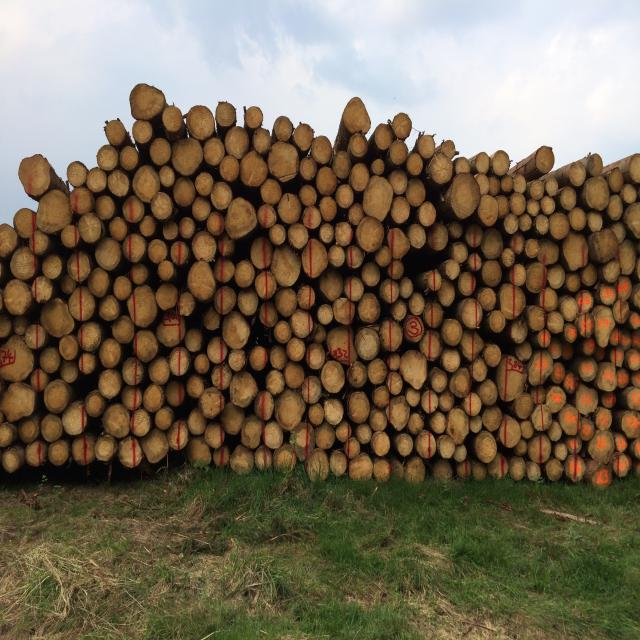wood-log: (0, 334, 34, 382), (447, 173, 482, 218), (36, 190, 72, 233), (363, 174, 395, 219), (40, 296, 74, 338), (19, 155, 52, 198), (2, 381, 37, 421), (226, 198, 259, 240), (498, 357, 528, 402), (271, 245, 303, 287), (129, 84, 164, 121), (268, 142, 300, 182), (128, 284, 158, 326), (428, 141, 455, 186), (188, 261, 219, 300), (276, 390, 305, 431), (184, 105, 216, 142), (2, 278, 33, 316), (172, 136, 202, 175), (590, 223, 619, 263), (621, 376, 640, 437), (230, 371, 260, 409), (303, 238, 330, 280), (343, 95, 372, 134), (401, 352, 430, 390), (561, 230, 589, 269), (67, 286, 97, 322), (223, 312, 252, 349), (132, 164, 160, 202), (356, 218, 386, 253), (498, 282, 526, 319), (590, 308, 615, 349), (43, 378, 72, 412), (11, 246, 39, 281), (240, 152, 267, 188), (412, 134, 436, 174), (157, 317, 186, 350), (141, 428, 169, 462), (328, 326, 353, 364), (584, 175, 610, 211), (95, 236, 122, 270), (225, 124, 252, 158), (32, 358, 59, 392), (353, 328, 379, 363), (264, 291, 287, 330), (317, 268, 344, 301), (133, 329, 159, 363), (104, 403, 129, 438), (527, 352, 551, 388), (564, 390, 596, 417), (80, 319, 106, 352), (222, 404, 248, 437), (588, 429, 614, 462), (386, 398, 410, 433), (192, 230, 218, 262), (322, 359, 347, 392), (63, 402, 87, 436), (249, 235, 273, 269), (79, 213, 105, 244), (574, 382, 600, 413), (242, 413, 265, 448), (380, 318, 403, 353), (481, 229, 506, 261), (456, 298, 481, 330), (273, 444, 296, 478), (230, 446, 255, 477), (356, 293, 380, 325), (277, 194, 301, 226), (449, 406, 469, 444), (347, 392, 370, 425), (566, 406, 589, 439), (81, 208, 109, 235), (618, 239, 639, 275), (112, 314, 137, 344), (122, 356, 147, 386), (537, 236, 562, 266), (499, 416, 521, 450), (558, 404, 580, 438), (524, 260, 546, 294), (88, 268, 112, 299), (173, 176, 197, 207), (474, 433, 498, 464), (187, 438, 211, 469), (451, 366, 474, 398), (210, 180, 234, 210), (428, 222, 452, 252), (99, 339, 123, 369), (156, 282, 180, 312), (107, 167, 130, 198), (125, 232, 148, 263), (201, 388, 224, 419), (13, 207, 36, 238), (596, 361, 618, 393), (574, 354, 600, 381), (349, 453, 374, 481), (98, 370, 122, 399), (275, 288, 299, 317), (421, 300, 445, 329), (123, 194, 146, 224), (70, 185, 93, 215), (213, 286, 236, 316), (256, 269, 279, 299), (419, 332, 442, 362), (165, 377, 187, 408), (463, 217, 484, 249), (334, 296, 357, 325), (315, 166, 338, 195), (442, 319, 465, 348), (38, 344, 61, 373), (460, 332, 483, 361), (152, 190, 174, 220), (313, 422, 335, 452), (514, 391, 536, 421), (1, 444, 23, 474), (389, 227, 409, 260), (479, 196, 500, 227), (24, 324, 48, 351), (0, 225, 19, 259), (311, 135, 334, 163), (149, 357, 172, 385), (378, 278, 401, 306), (204, 134, 224, 166), (389, 196, 410, 226), (163, 104, 184, 134), (406, 454, 427, 484), (619, 409, 640, 439), (165, 242, 186, 272), (120, 436, 139, 469), (261, 176, 284, 203), (99, 295, 122, 322), (212, 257, 235, 284), (295, 210, 315, 241), (289, 310, 311, 338), (390, 110, 412, 138), (404, 316, 426, 344), (260, 302, 282, 330), (151, 136, 172, 165), (170, 347, 191, 376), (20, 414, 41, 443), (550, 209, 570, 239), (238, 292, 262, 317), (348, 360, 368, 390), (534, 146, 554, 176), (334, 150, 354, 180), (95, 194, 117, 221), (85, 389, 107, 416), (72, 434, 90, 467), (121, 385, 143, 412), (416, 429, 435, 460), (104, 119, 125, 147), (41, 413, 62, 441), (482, 260, 503, 288), (60, 334, 81, 362), (306, 342, 327, 370), (349, 164, 370, 192), (207, 337, 228, 365), (625, 201, 640, 240), (97, 435, 117, 464), (532, 434, 550, 466), (387, 140, 409, 166), (508, 318, 530, 344), (283, 362, 305, 388), (98, 145, 119, 172), (265, 423, 286, 450), (294, 124, 315, 151), (34, 275, 55, 302), (547, 384, 568, 411), (143, 382, 163, 410), (51, 439, 71, 467), (406, 178, 426, 206), (88, 166, 108, 194), (567, 159, 587, 187), (236, 262, 256, 290), (374, 123, 394, 151), (258, 391, 276, 422), (43, 253, 64, 279), (525, 306, 546, 332), (387, 168, 408, 194), (360, 261, 380, 288), (492, 149, 512, 176), (133, 408, 152, 436), (484, 405, 503, 433), (68, 160, 87, 188), (303, 376, 322, 404), (542, 442, 558, 475), (132, 121, 153, 146), (31, 231, 52, 256), (258, 204, 279, 229), (183, 328, 204, 353), (252, 128, 272, 154), (288, 222, 308, 248), (219, 157, 239, 183), (148, 238, 168, 264), (349, 132, 369, 158), (274, 116, 294, 142), (369, 358, 389, 384), (548, 265, 568, 291), (487, 309, 507, 335), (614, 452, 634, 478), (212, 362, 232, 388), (170, 239, 190, 265), (249, 344, 268, 371), (61, 223, 80, 250), (206, 422, 225, 449), (323, 398, 342, 425), (412, 317, 428, 349), (192, 197, 213, 221), (442, 348, 463, 372), (28, 369, 49, 393), (483, 438, 501, 466), (59, 274, 80, 298), (108, 214, 128, 239), (336, 185, 356, 210), (178, 291, 198, 316), (185, 373, 205, 398), (418, 133, 438, 158), (624, 378, 640, 409), (121, 146, 140, 172), (458, 270, 477, 296), (546, 456, 565, 482), (484, 342, 503, 368), (480, 378, 499, 404), (531, 406, 550, 432), (561, 296, 580, 322), (28, 438, 45, 467), (217, 100, 235, 127), (130, 264, 152, 286), (430, 457, 452, 479), (478, 287, 498, 311), (202, 307, 222, 331), (566, 453, 582, 483), (438, 282, 458, 306), (442, 423, 459, 451), (208, 174, 225, 202), (581, 264, 600, 289), (156, 406, 175, 431), (301, 156, 319, 182), (373, 432, 391, 458), (438, 434, 456, 460), (432, 368, 450, 394), (490, 453, 508, 479), (474, 150, 492, 176), (331, 449, 348, 476), (394, 433, 413, 457), (113, 276, 132, 300), (187, 410, 206, 434), (286, 338, 305, 362), (346, 277, 365, 301), (347, 244, 366, 268), (336, 221, 355, 245), (419, 201, 437, 226), (267, 369, 285, 394), (318, 196, 336, 221), (471, 356, 489, 381), (420, 386, 436, 414), (385, 377, 399, 409), (409, 224, 426, 250), (467, 394, 484, 420), (440, 259, 461, 280), (598, 282, 618, 304), (559, 187, 577, 211), (568, 206, 586, 230), (217, 234, 235, 258), (0, 310, 14, 340), (188, 229, 216, 244), (273, 322, 292, 344), (373, 386, 392, 408), (406, 155, 425, 177), (196, 172, 215, 194), (547, 312, 566, 334), (36, 340, 58, 359), (0, 422, 16, 448), (512, 456, 528, 482), (139, 214, 157, 237), (602, 260, 620, 283), (178, 217, 196, 240), (540, 287, 558, 310), (160, 260, 178, 283), (594, 408, 612, 431), (303, 206, 321, 229), (375, 245, 393, 268), (301, 182, 319, 205), (463, 392, 480, 416), (208, 211, 225, 235), (589, 152, 606, 176), (607, 168, 624, 192), (382, 132, 399, 156), (619, 276, 635, 301), (578, 288, 597, 309), (61, 360, 80, 381), (245, 105, 263, 127), (230, 349, 248, 371), (270, 224, 288, 246), (162, 220, 180, 242), (331, 244, 348, 267), (463, 274, 480, 297), (375, 457, 391, 481), (81, 353, 100, 373), (390, 300, 408, 321), (516, 341, 534, 362), (172, 421, 186, 448), (512, 265, 527, 290), (429, 412, 446, 434), (272, 346, 288, 369), (356, 422, 372, 445), (502, 211, 518, 234), (337, 417, 352, 441), (622, 182, 640, 202), (512, 193, 527, 217), (439, 390, 456, 411), (445, 406, 467, 422), (540, 408, 554, 433), (162, 165, 177, 188), (348, 204, 366, 223), (629, 154, 640, 185), (195, 354, 212, 374), (387, 372, 403, 393), (610, 196, 624, 220), (317, 305, 333, 326), (525, 238, 539, 262), (410, 294, 426, 315), (499, 247, 516, 266), (581, 414, 595, 437), (589, 211, 605, 231), (189, 203, 205, 223), (410, 412, 425, 433), (407, 387, 422, 408), (535, 212, 548, 236), (627, 346, 640, 370), (540, 196, 556, 215), (565, 273, 581, 292), (554, 440, 570, 459), (319, 224, 334, 244), (548, 420, 563, 440), (256, 447, 269, 470), (453, 445, 467, 466), (388, 261, 404, 279), (310, 404, 324, 424), (616, 432, 630, 452), (347, 437, 360, 458), (600, 390, 615, 408), (546, 175, 560, 194), (372, 159, 387, 176), (632, 280, 640, 310), (526, 198, 540, 215), (0, 262, 9, 287), (631, 438, 640, 462), (468, 415, 480, 433), (520, 214, 532, 232)
